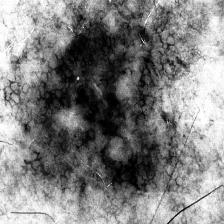Benign Marking or Mole: (10, 20, 180, 180)
